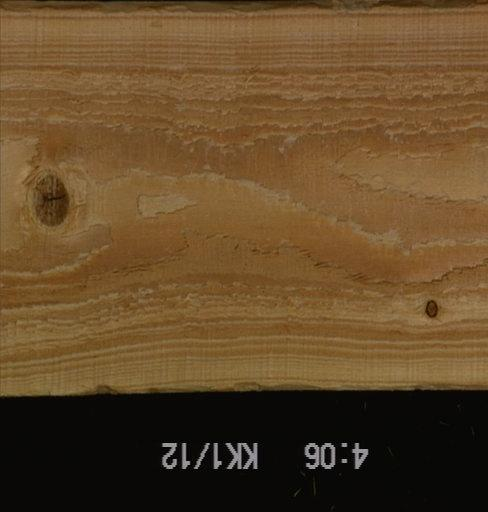dry_knot: (424, 298, 438, 319)
sound_knot: (29, 172, 71, 227)
wave: (0, 0, 486, 14), (222, 380, 336, 391), (385, 382, 486, 391)
